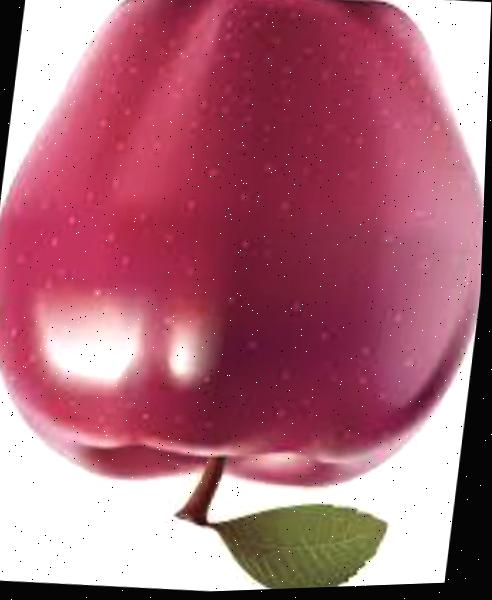HEALTHY: (0, 0, 492, 528)
